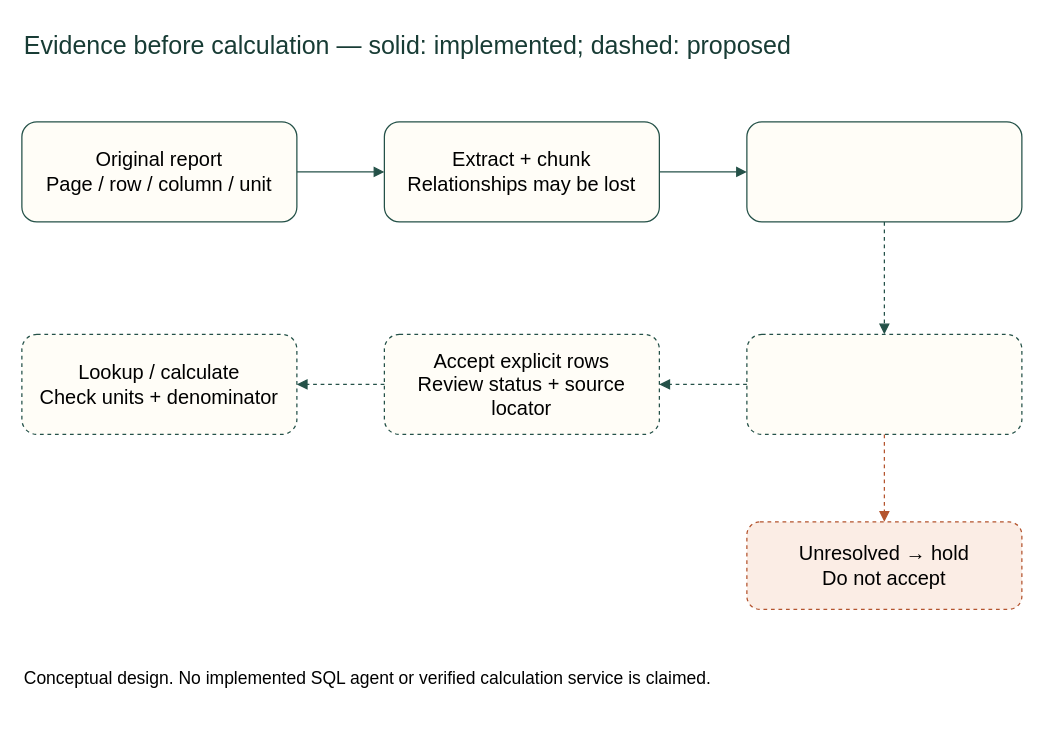
Image size: 1044x730. Some labels were removed from this diagram. The shapes that lost their labels are listed below. From the top down, each one's centre as x and y in pixels, then its label:
At pixel 884 171: "Retrieve candidates Ranking ≠ verified value".
At pixel 884 383: "Review source Period / metric / value / unit".
